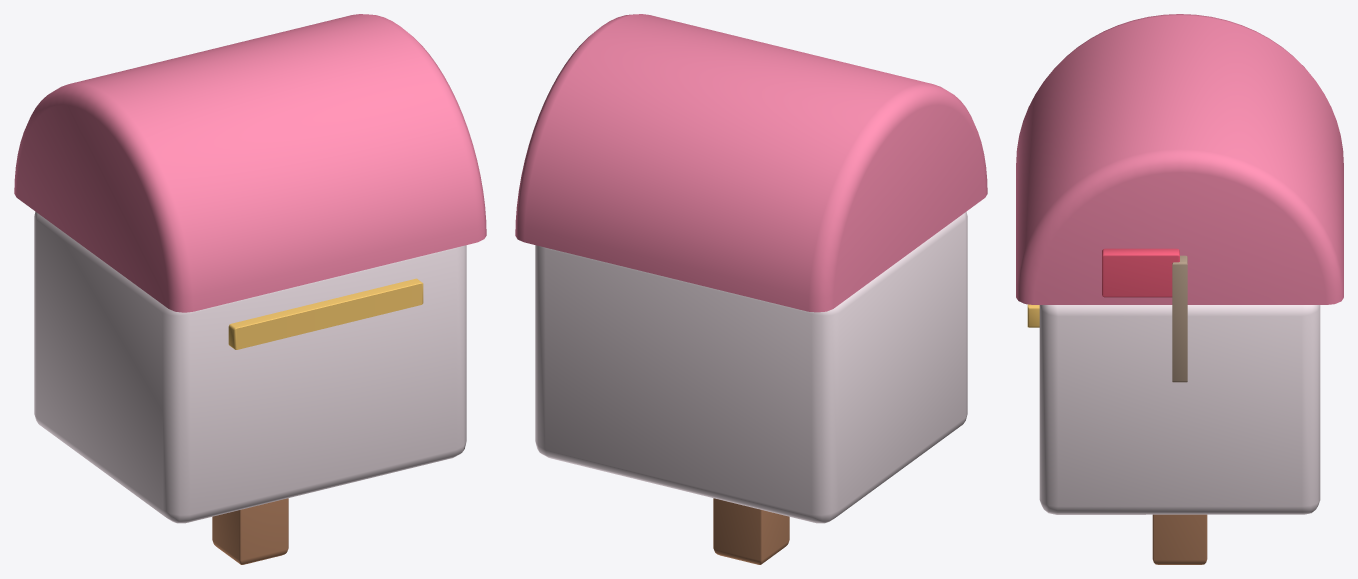
File: object-star-mailbox.glb
3 views of the same model, side by side, from view 1: azimuth 30°, elevation 25°; view 2: azimuth 150°, elevation 25°; view 3: azimuth 270°, elevation 25° (orthographic). The views are drawn at different scales.
Parts seen in each view (by area): view 1: part-lid-mesh, Node_0-mesh; view 2: part-lid-mesh, Node_0-mesh; view 3: part-lid-mesh, Node_0-mesh, part-flag-mesh.
Part boxes in pixels (left/top/right/bottom): part-lid-mesh: left=14, top=14, right=486, bottom=312; Node_0-mesh: left=34, top=211, right=466, bottom=564; part-lid-mesh: left=515, top=14, right=987, bottom=312; Node_0-mesh: left=535, top=211, right=967, bottom=564; part-lid-mesh: left=1016, top=14, right=1343, bottom=304; Node_0-mesh: left=1027, top=304, right=1320, bottom=564; part-flag-mesh: left=1102, top=248, right=1187, bottom=382.
Size of the model in its own units: 0.945 by 1.34 by 0.84.
